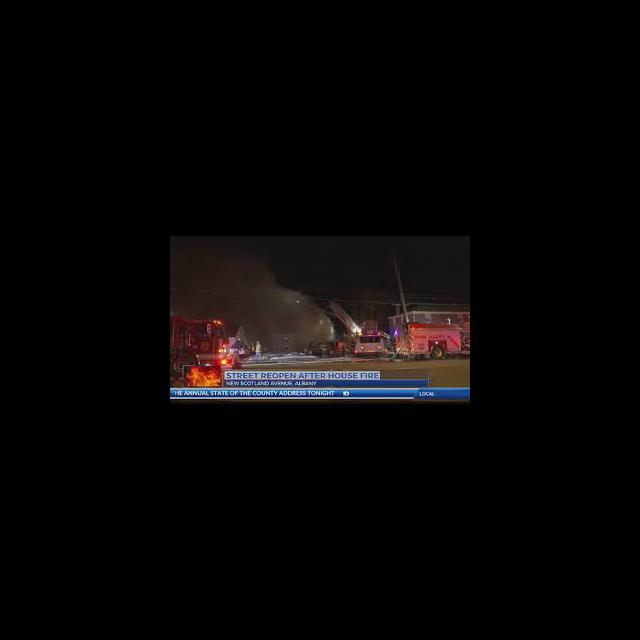Fire: (186, 366, 220, 386)
Smoke: (236, 282, 334, 346)
